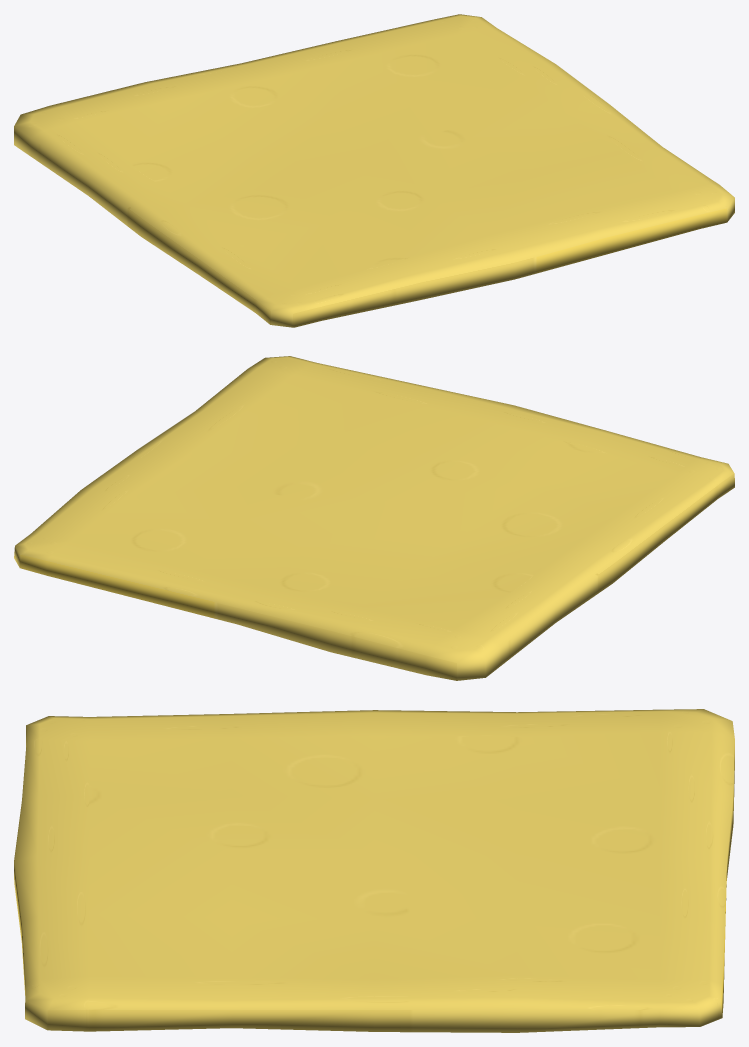
The model's file is Cheese.fbx.
3 renders of one model, top to bottom at view 1: azimuth 30°, elevation 25°; view 2: azimuth 150°, elevation 25°; view 3: azimuth 270°, elevation 25°, orthographic. The views are drawn at different scales.
Visible parts, largest first — view 1: Cheese; view 2: Cheese; view 3: Cheese.
Boxes of the visible parts, x1=… form: Cheese: x1=14, y1=14, x2=734, y2=327; Cheese: x1=14, y1=356, x2=734, y2=680; Cheese: x1=14, y1=709, x2=734, y2=1032.
Bounding box in the file's own units: 184 × 11.59 × 187.
